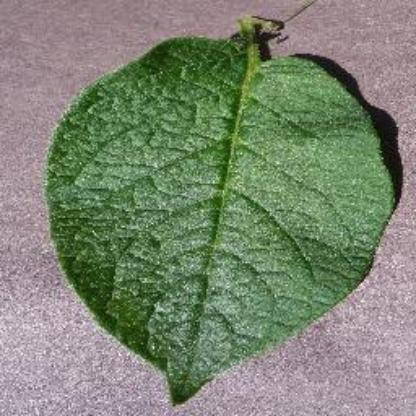Healthy-plant: (41, 35, 400, 399)
